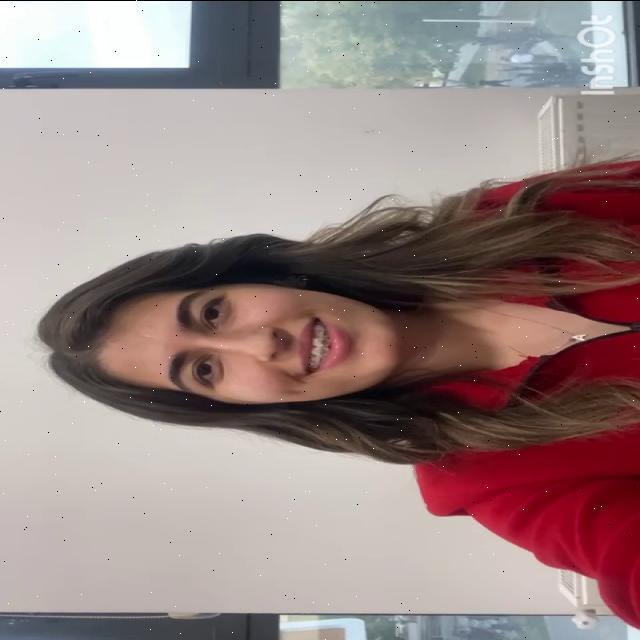happy: (95, 280, 407, 405)
